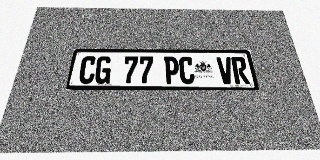7: (122, 56, 138, 84), (138, 56, 153, 84)
C: (78, 56, 97, 84), (179, 57, 195, 84)
G: (94, 56, 112, 84)
P: (164, 57, 179, 84)
R: (231, 57, 250, 84)
V: (216, 57, 235, 84)
